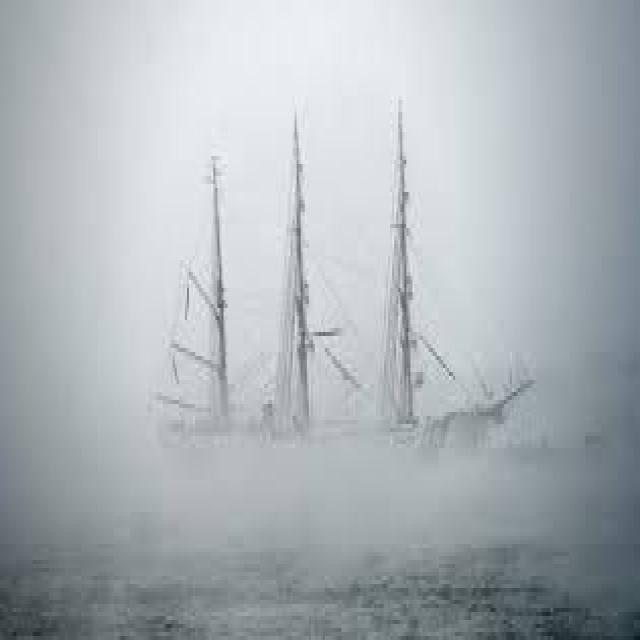fishing boat: (150, 107, 519, 489)
